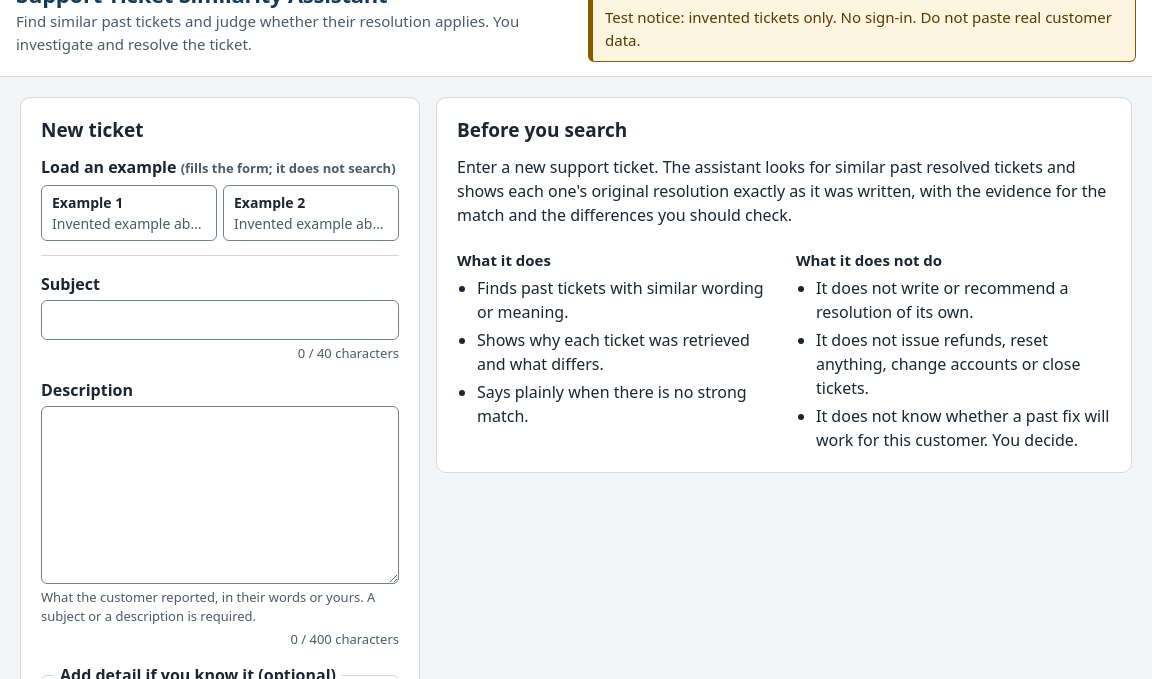
Scenario: result card › fetches a stored ticket once, on first use, and reports a missing ticket
The image size is (1152, 679).
Expected: the heading "Before you search" is shown, left=457, top=117, right=627, bottom=143
Type "Alpha problem" into the field labelled "Subject" at x=220, y=320, box left=41, top=300, right=399, bottom=340
(page scrolled)
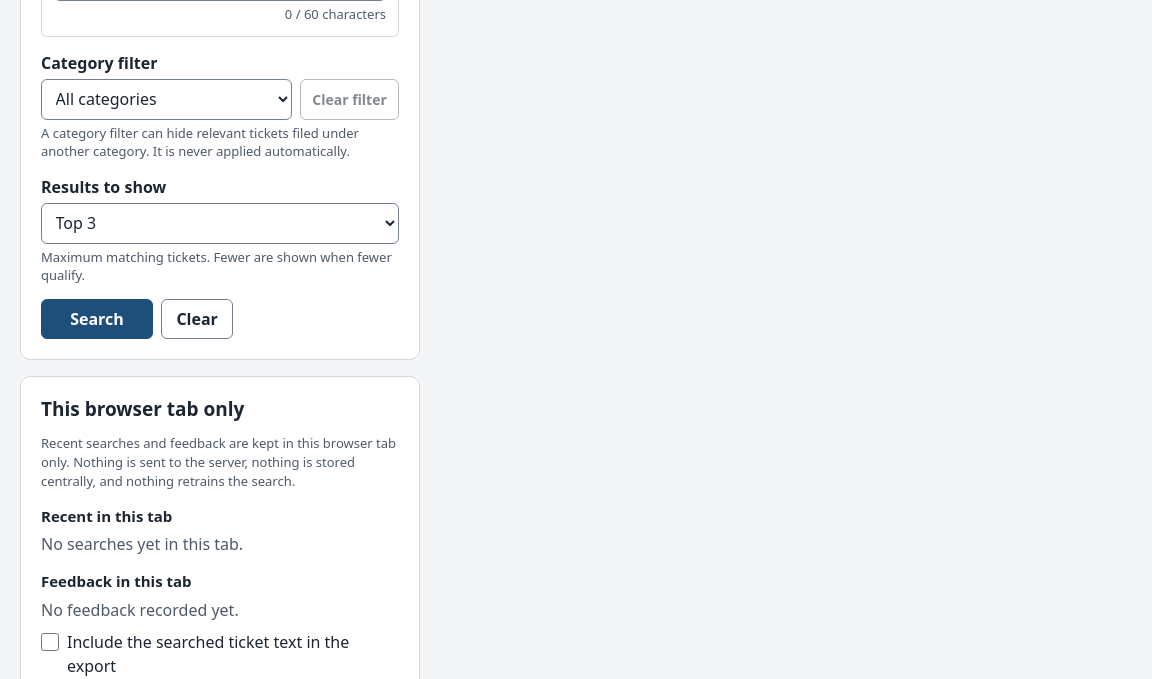
Click the button "Search" at x=97, y=319, box left=41, top=299, right=153, bottom=339
(page scrolled)
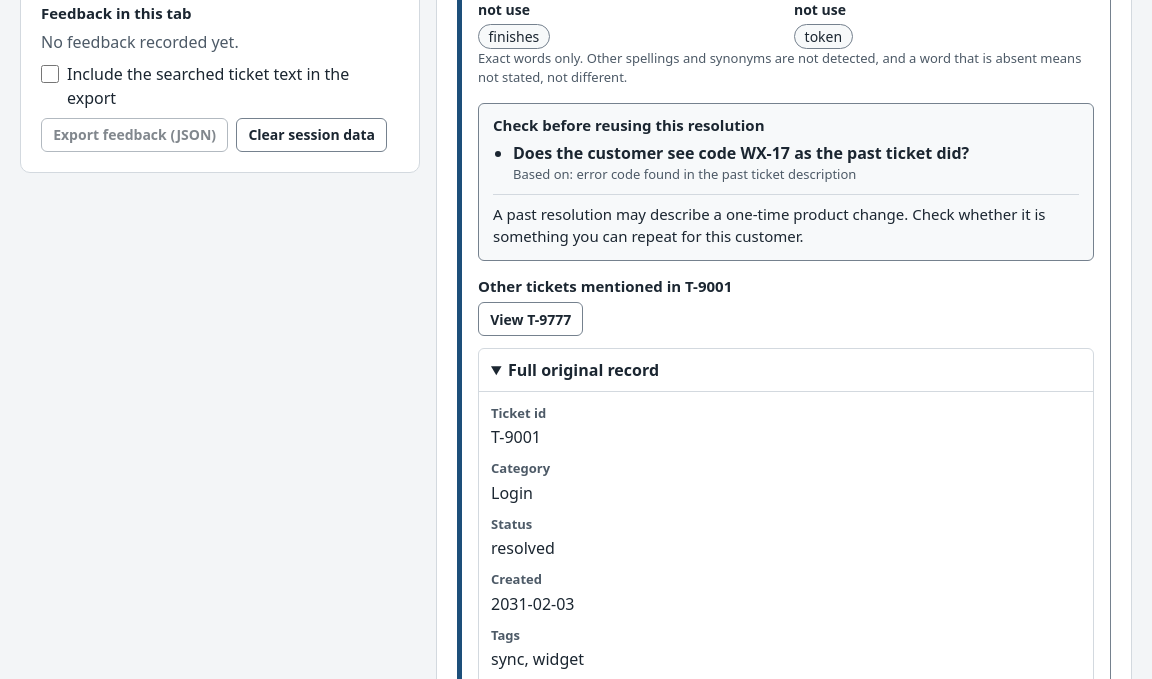
Result: the text "Ticket id" is shown at left=491, top=404, right=546, bottom=422
Click the button "View T-9777" at x=531, y=319, box left=478, top=302, right=584, bottom=336
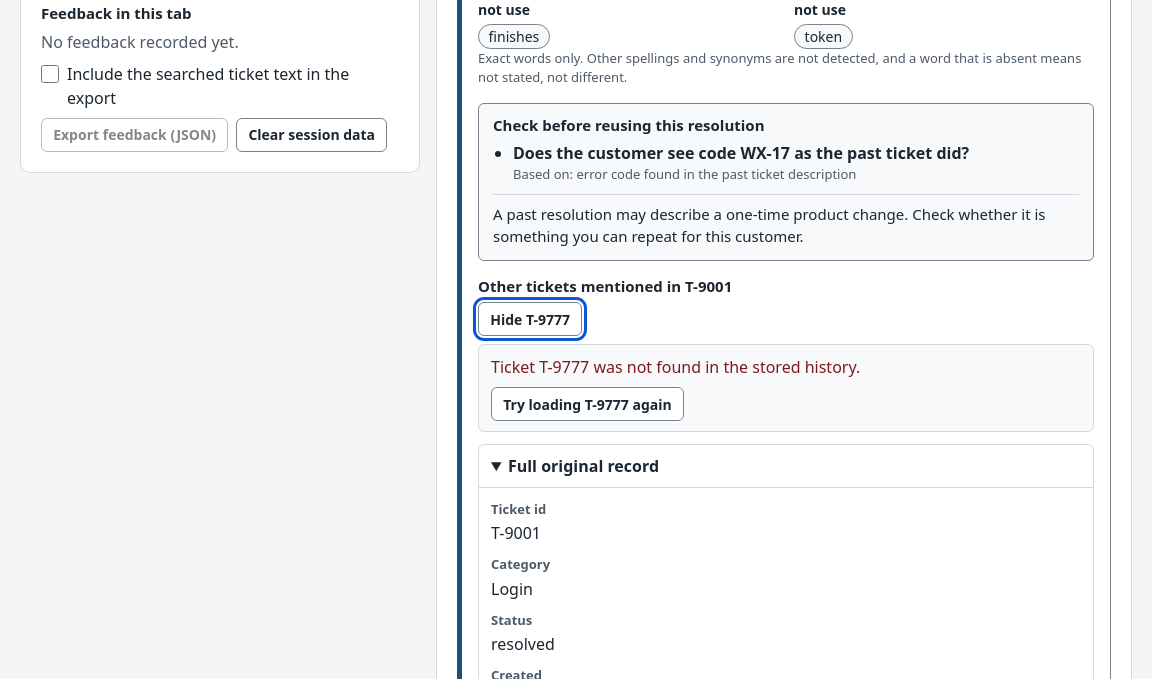
Result: the text "Ticket T-9777 was not found in the stored history." is shown at left=491, top=356, right=860, bottom=378
